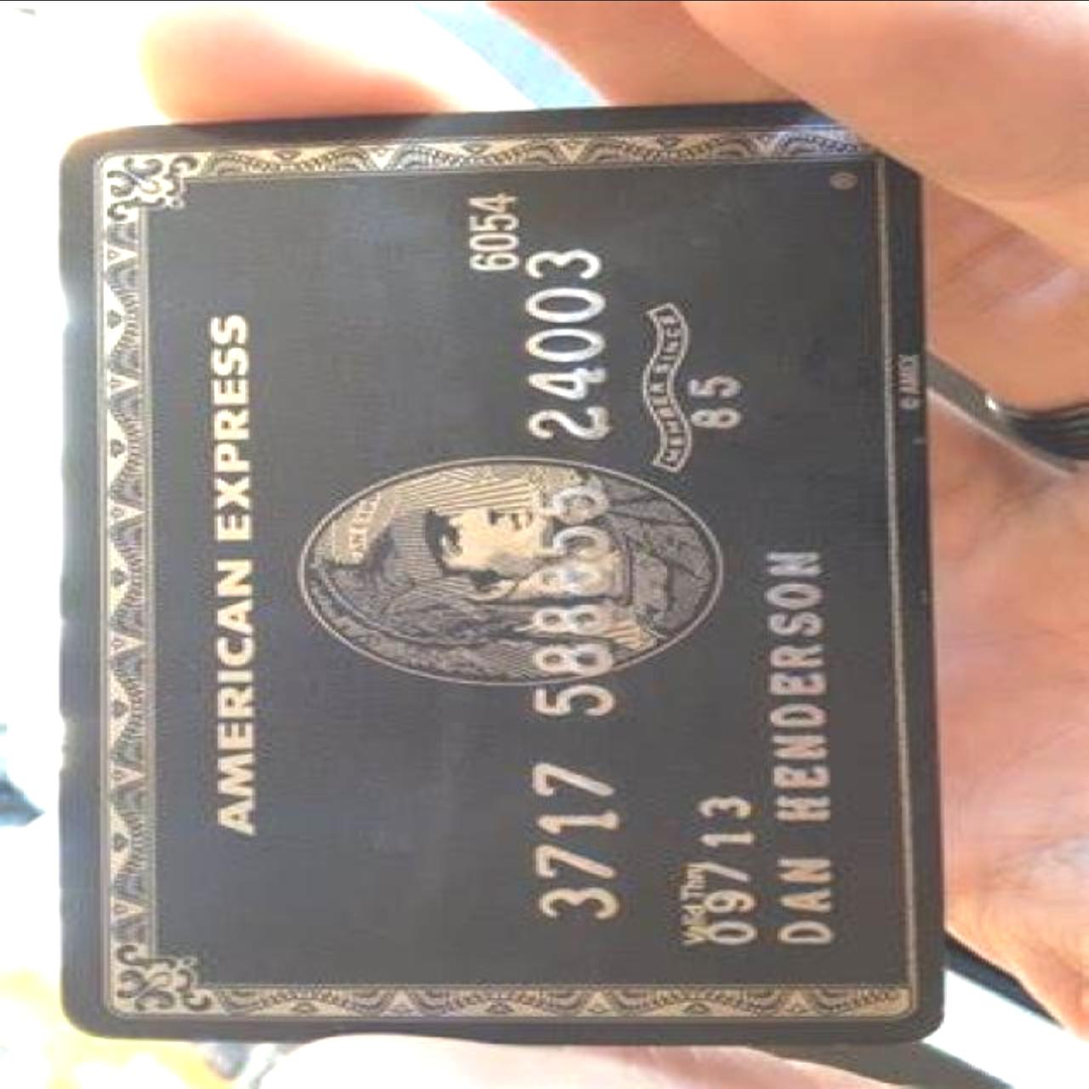credit_card: (65, 102, 949, 1038)
